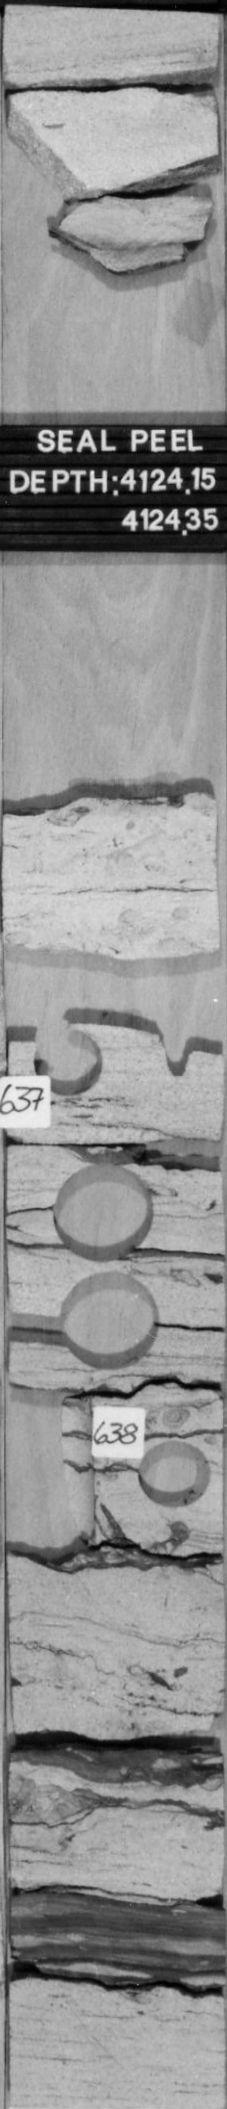hplug: (134, 1436, 212, 1514), (27, 1025, 103, 1098)
scal: (48, 1158, 160, 1262), (55, 1268, 168, 1371)
vplug: (9, 1373, 101, 1558)
